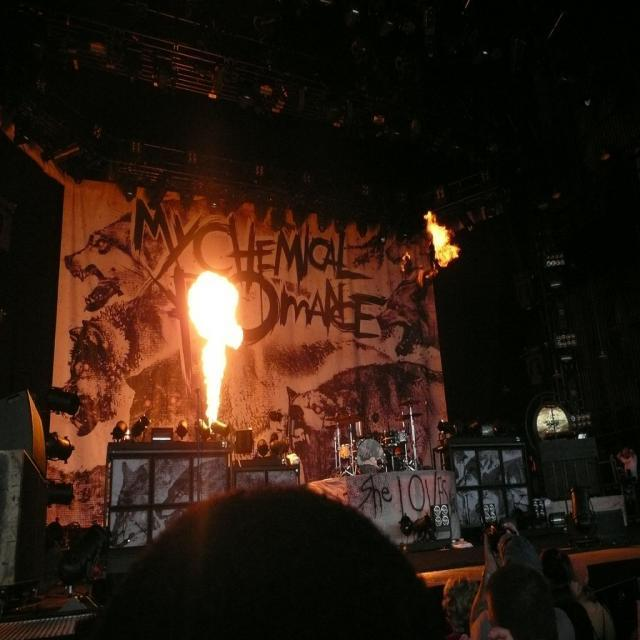Fire: (181, 262, 247, 430)
